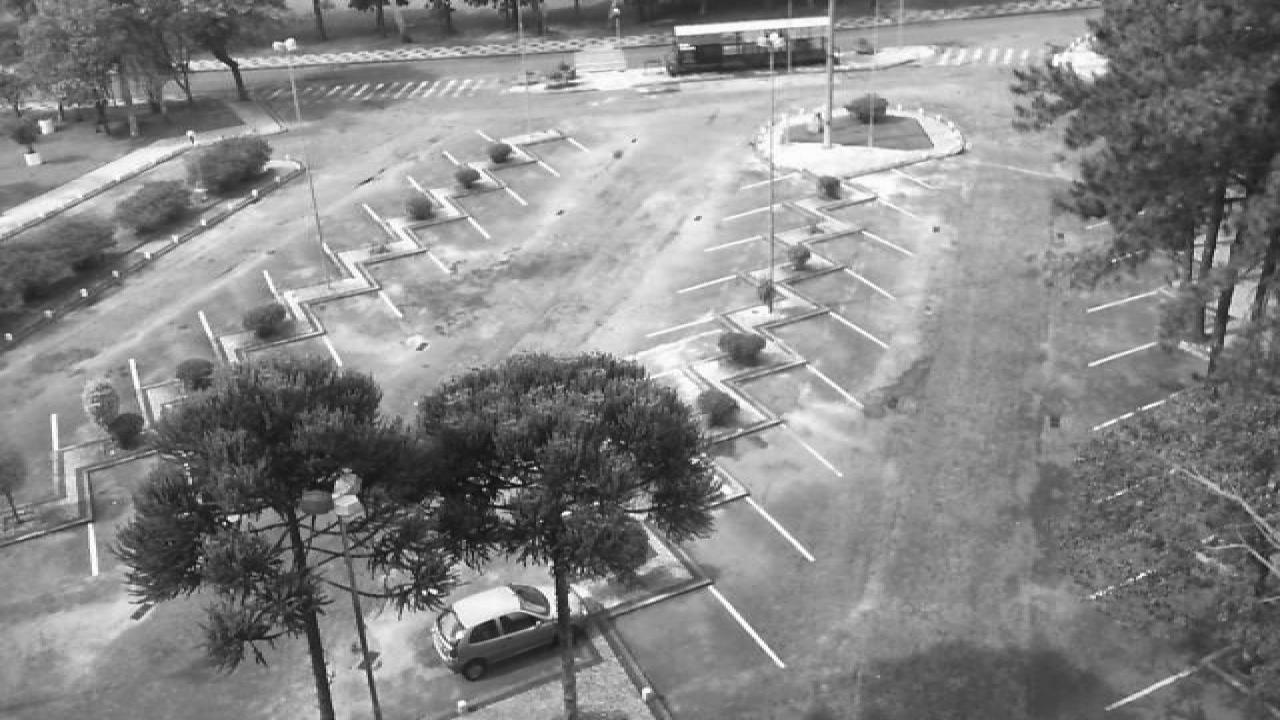Car: (428, 582, 594, 680)
